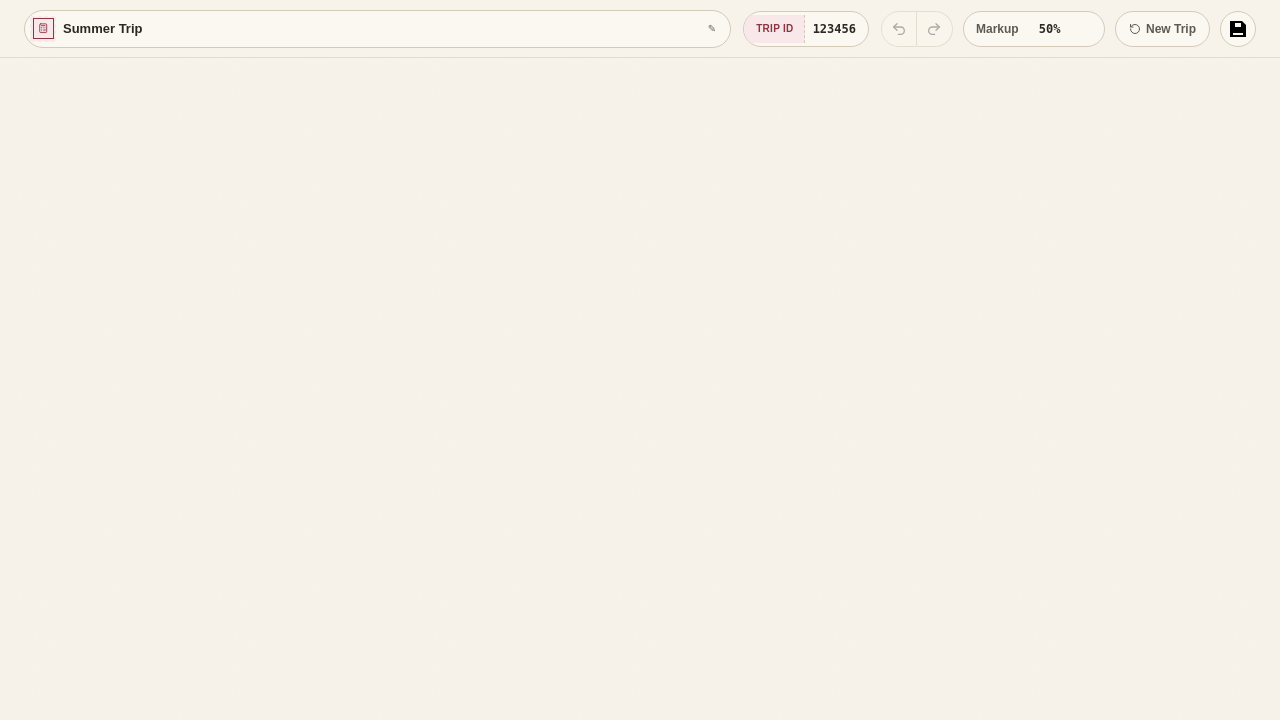
Test: TripToolbar › refreshes the save status each time the New Trip decision is opened
This screenshot has width=1280, height=720.
Click the button with aria-label "Start new trip" at (1162, 28), box [1115, 10, 1210, 46]
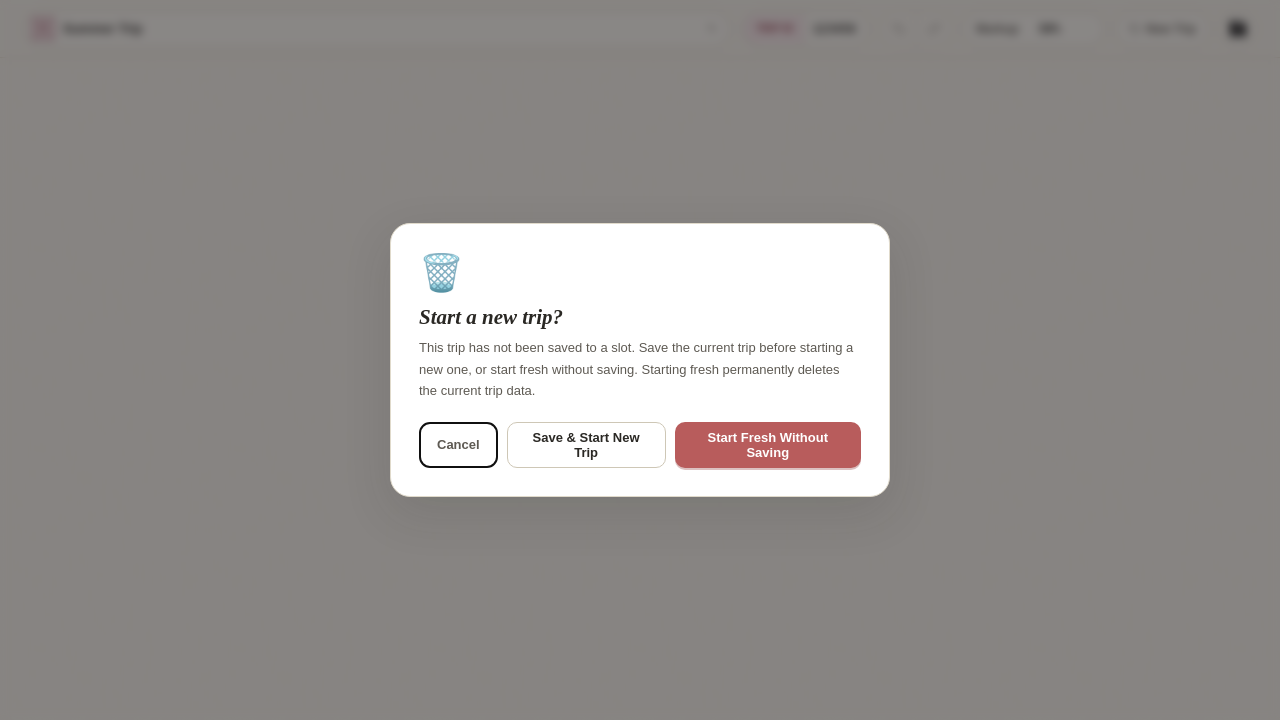
Check: the text "This trip has not been saved to a slot" is shown, box [419, 340, 853, 398]
Click the button "Cancel" at (458, 445), box [419, 422, 498, 468]
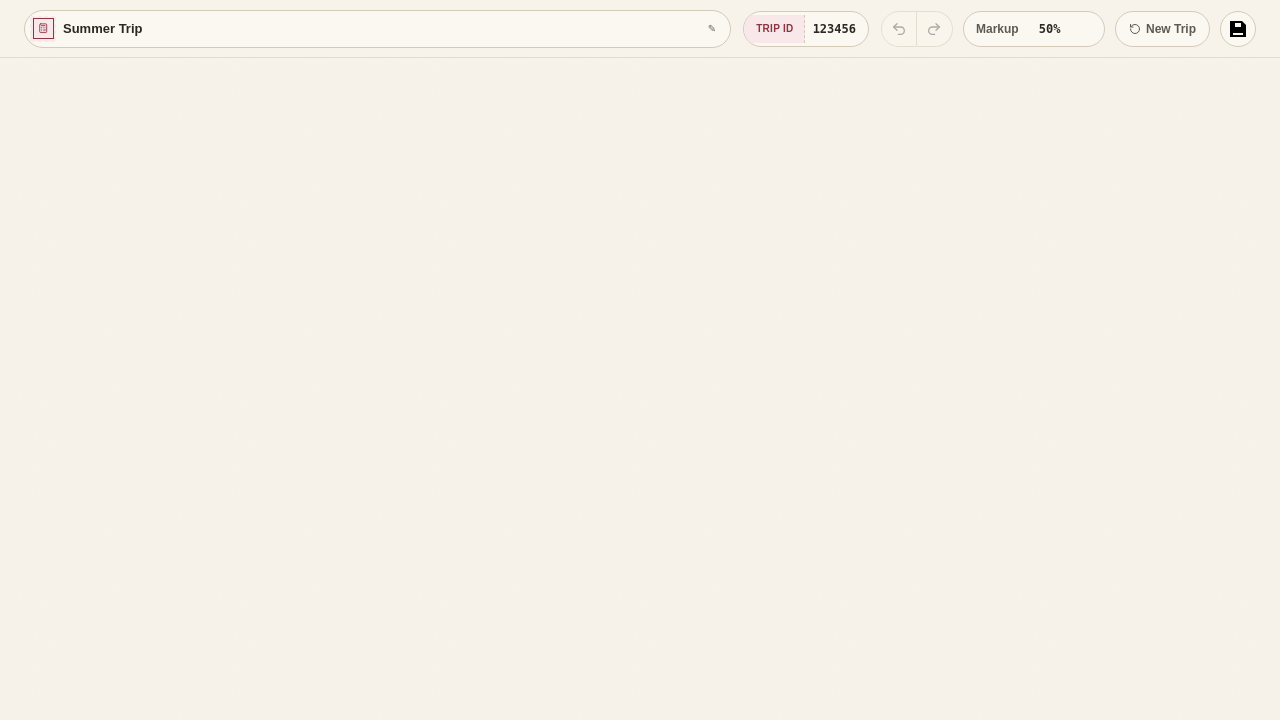
Click the button with aria-label "Start new trip" at (1162, 28), box [1115, 10, 1210, 46]
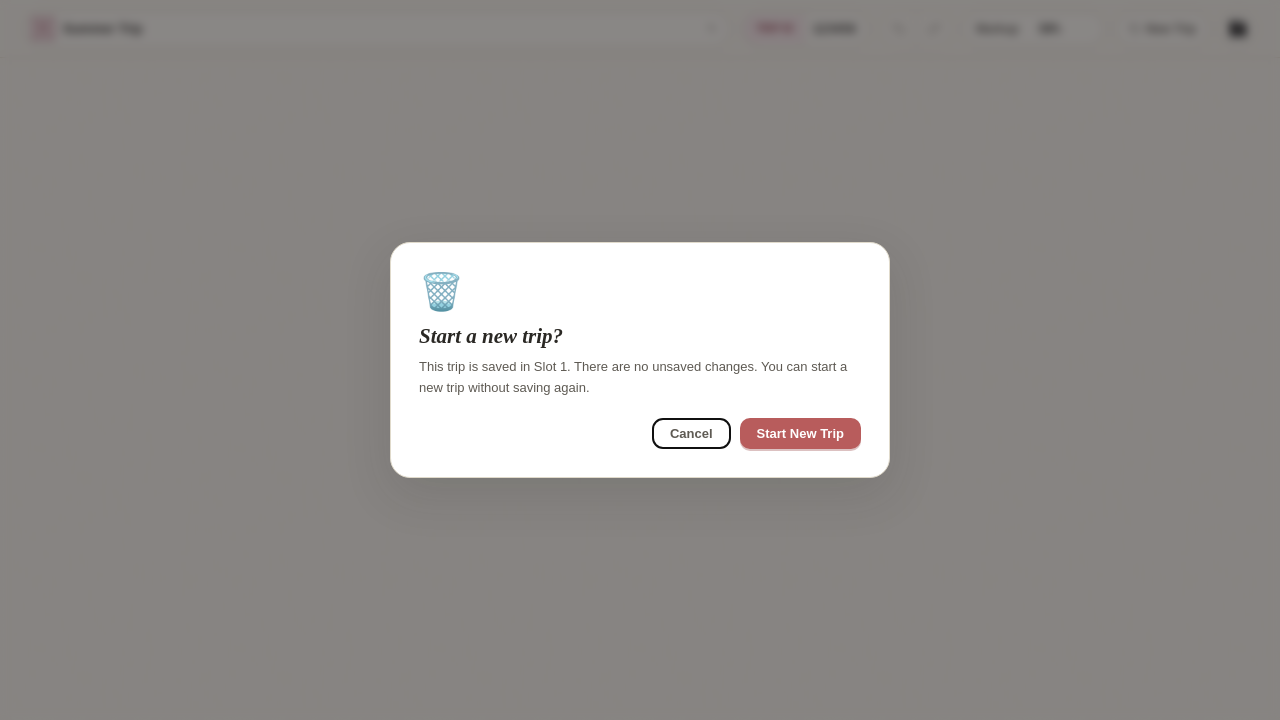
Check: the text "This trip is saved in Slot 1" is shown, box [419, 359, 847, 395]
